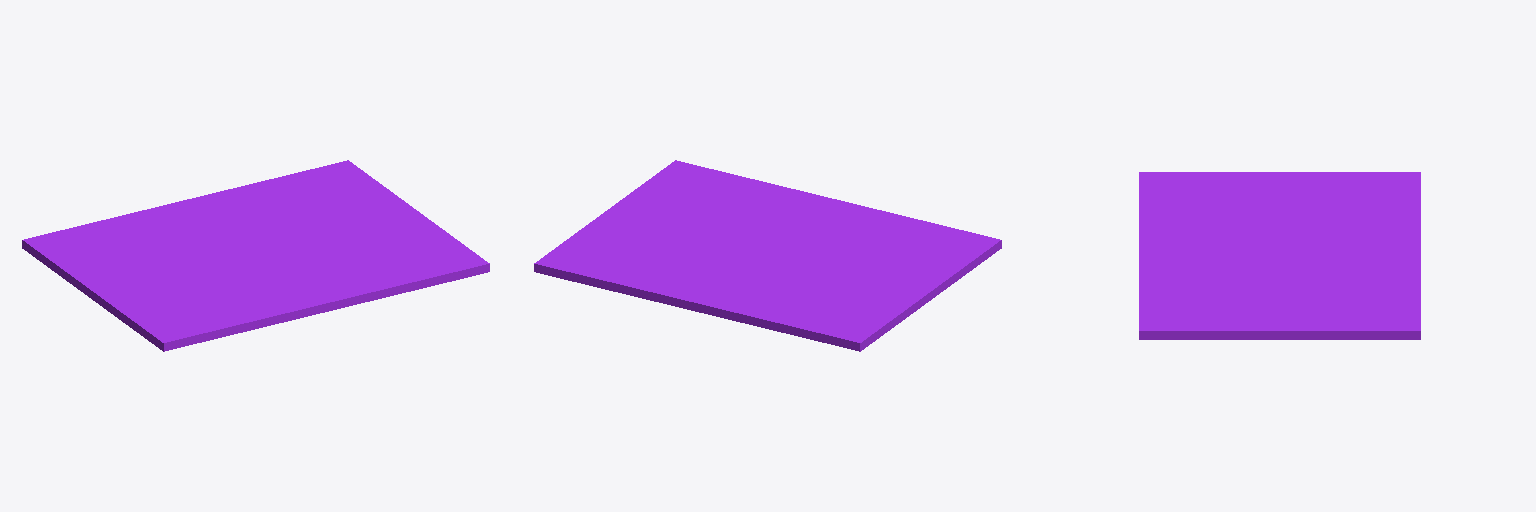
File: square1.obj
The picture shows the model from 3 angles: view 1: azimuth 30°, elevation 25°; view 2: azimuth 150°, elevation 25°; view 3: azimuth 270°, elevation 25°; orthographic projection.
Visible parts, largest first — view 1: 1; view 2: 1; view 3: 1.
Boxes of the visible parts, x1=… form: 1: x1=22, y1=160, x2=489, y2=351; 1: x1=534, y1=160, x2=1001, y2=351; 1: x1=1139, y1=172, x2=1420, y2=339.
Bounding box in the file's own units: 200 × 5 × 150.